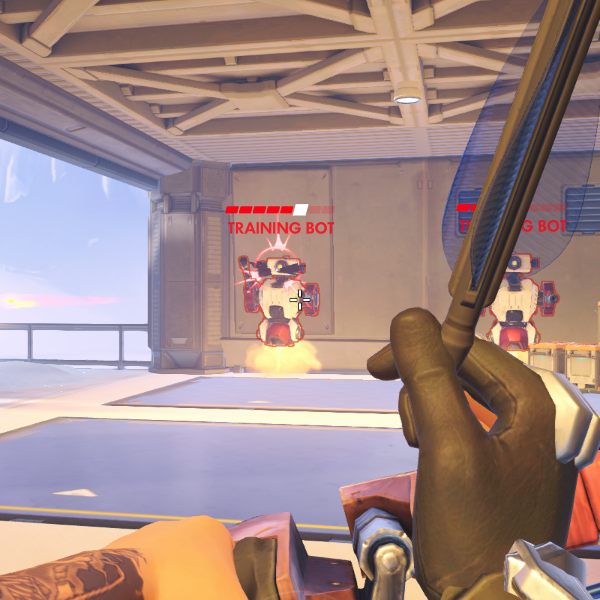hpbar: (456, 203, 568, 212), (225, 205, 336, 214)
